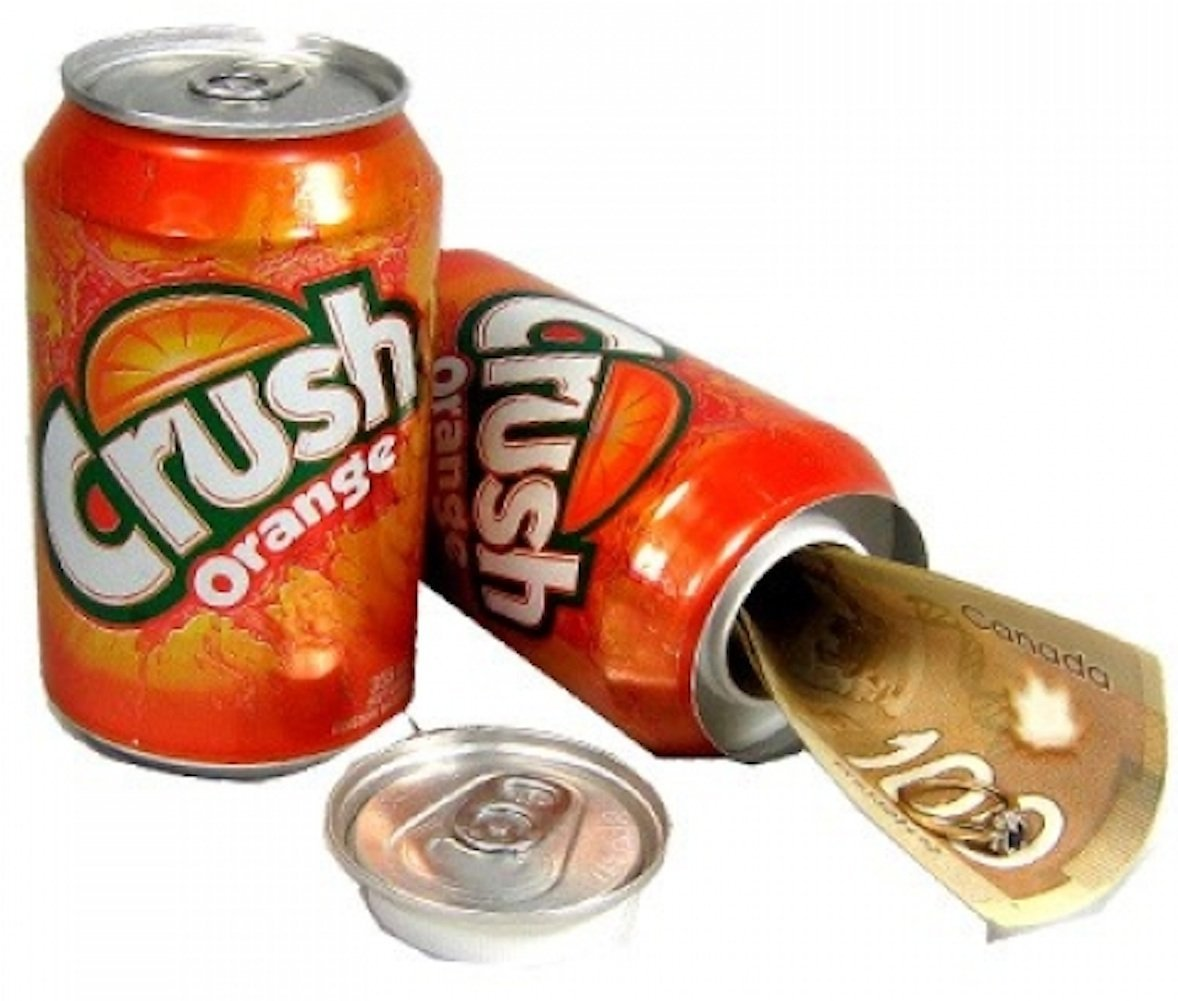can: (18, 22, 447, 784), (414, 245, 929, 766)
